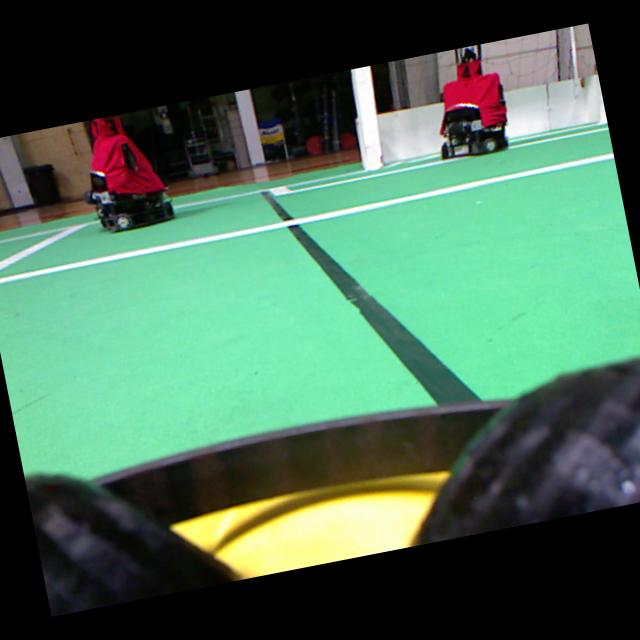ball: (171, 471, 448, 577)
goal: (351, 66, 383, 170)
